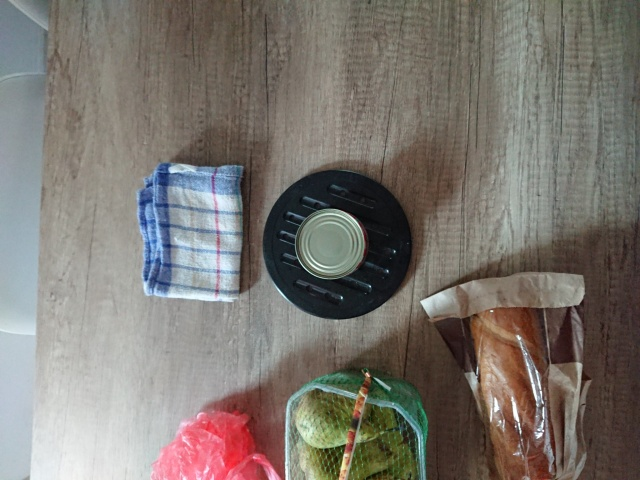Podravka Luncheon Meat 150g: (291, 206, 373, 283)
